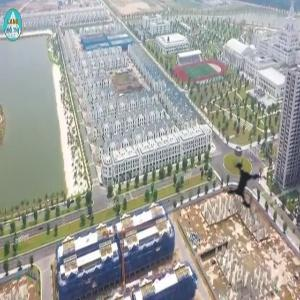drone: (197, 138, 297, 238)
